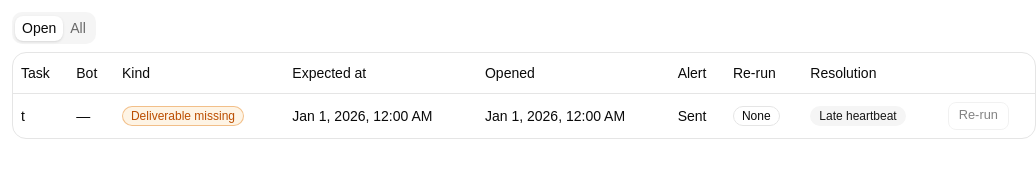
Scenario: humanizes incident values and explains unavailable re-runs
Expected: the text "Late heartbeat" is shown, x1=810 y1=106 x2=906 y2=126
Expected: the button "Re-run" is disabled, x1=948 y1=102 x2=1009 y2=130
Focus the element showing "Re-run": (978, 114) x1=948 y1=106 x2=1009 y2=122
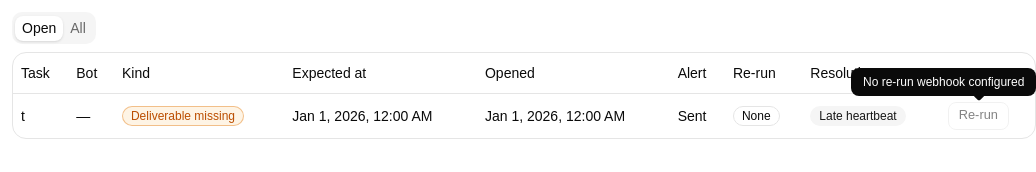
Now the tooltip reads "No re-run webhook configured", box x1=863 y1=75 x2=1024 y2=89
